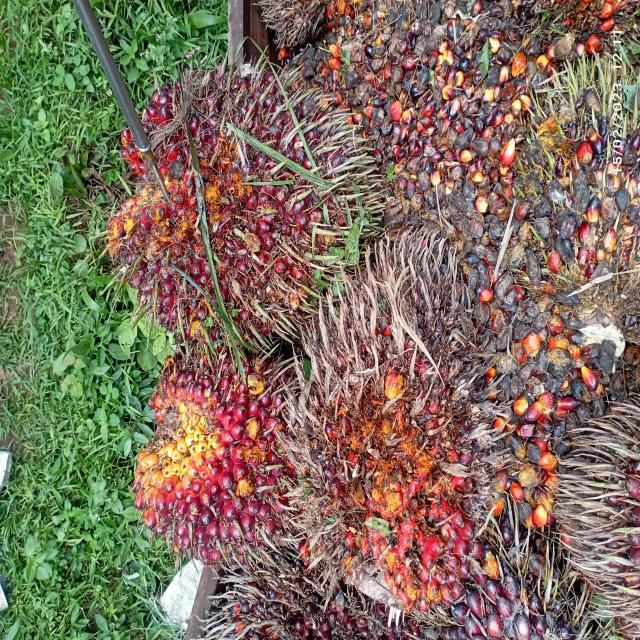fraksi 1: (86, 13, 387, 348)
fraksi 3: (111, 332, 312, 592)
fraksi 4: (246, 221, 522, 611)
